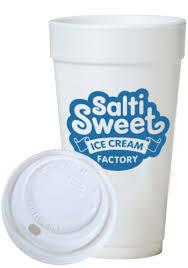Plastic cup: (2, 2, 188, 268)
